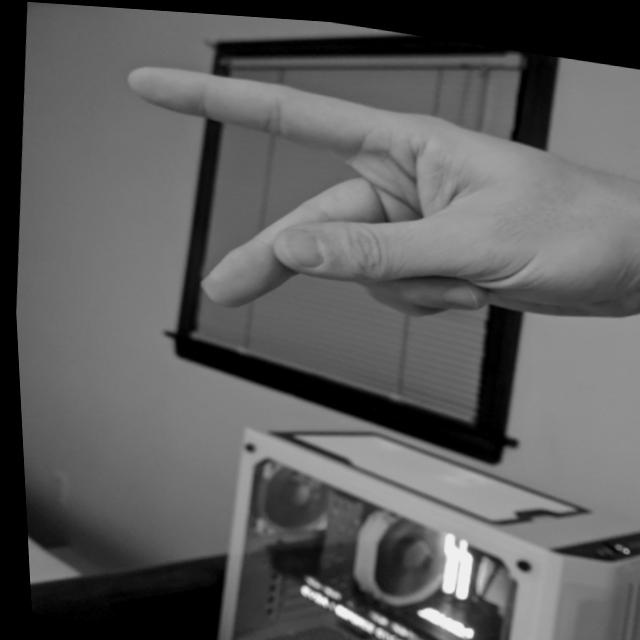P: (100, 49, 639, 375)
